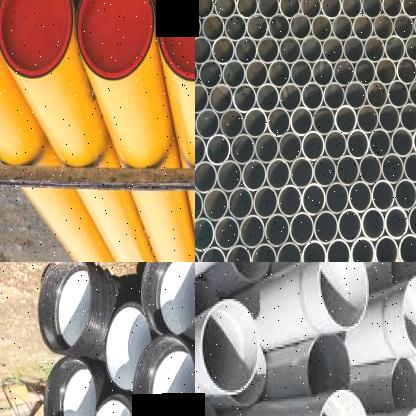pipe: (76, 0, 154, 81), (198, 296, 260, 396), (0, 0, 73, 80), (37, 262, 92, 354), (133, 336, 195, 416), (104, 304, 152, 391), (315, 262, 373, 333), (141, 262, 195, 336), (302, 331, 354, 397), (156, 0, 195, 83), (43, 357, 96, 416), (386, 354, 416, 412), (313, 385, 369, 416), (399, 272, 416, 357), (195, 275, 220, 327), (228, 262, 274, 285), (88, 395, 136, 416), (264, 214, 290, 249), (203, 188, 229, 222), (214, 216, 240, 250), (239, 215, 265, 249), (252, 186, 278, 219), (301, 183, 326, 217), (289, 212, 314, 246), (229, 187, 254, 221), (337, 209, 362, 243), (277, 185, 302, 218), (217, 160, 242, 193), (314, 211, 338, 245), (361, 208, 385, 242), (384, 206, 408, 240), (195, 108, 220, 140), (231, 134, 256, 166), (325, 182, 349, 215), (348, 181, 372, 214), (219, 108, 244, 139), (254, 132, 278, 164), (313, 156, 337, 188), (266, 158, 290, 190), (242, 160, 266, 192), (290, 157, 314, 189), (206, 134, 230, 166), (336, 155, 360, 187), (371, 180, 395, 212), (278, 132, 302, 163), (195, 161, 217, 194), (198, 60, 223, 89), (387, 262, 416, 287), (368, 128, 392, 158), (256, 83, 280, 113), (390, 128, 414, 158), (267, 108, 291, 138), (244, 108, 268, 138), (324, 130, 347, 161), (358, 154, 381, 185), (346, 129, 369, 160), (394, 179, 416, 211), (222, 60, 246, 89), (232, 84, 256, 113), (209, 84, 233, 113), (312, 106, 335, 136), (381, 154, 404, 184), (335, 105, 358, 135), (356, 104, 379, 134), (212, 36, 235, 66), (302, 131, 324, 162), (301, 82, 324, 111), (279, 83, 302, 112), (323, 82, 346, 111), (290, 107, 313, 136), (245, 60, 268, 89), (278, 36, 301, 65), (257, 36, 280, 65), (235, 36, 258, 65), (195, 218, 214, 253), (366, 80, 388, 110), (246, 14, 269, 42), (201, 14, 224, 42), (224, 14, 247, 42), (333, 58, 355, 87), (312, 58, 334, 87), (378, 104, 400, 133), (387, 80, 409, 109), (268, 60, 290, 89), (374, 236, 398, 262), (344, 82, 366, 110), (311, 14, 333, 42), (290, 60, 312, 88), (300, 36, 322, 64), (354, 58, 376, 86), (322, 36, 344, 64), (375, 58, 397, 86), (268, 14, 290, 42), (350, 237, 374, 262), (352, 14, 374, 41), (290, 14, 312, 41), (332, 14, 353, 42), (343, 36, 364, 64), (326, 238, 350, 262), (372, 14, 393, 41), (396, 57, 416, 85), (301, 240, 326, 262), (384, 36, 405, 62), (393, 14, 414, 40), (364, 36, 384, 63), (397, 234, 416, 262), (276, 242, 301, 262), (251, 243, 277, 262), (399, 103, 416, 132), (195, 36, 212, 64), (225, 245, 251, 262), (195, 83, 209, 114), (214, 0, 236, 19), (236, 0, 258, 19), (199, 247, 226, 262), (403, 152, 416, 183), (279, 0, 300, 19), (341, 0, 362, 19), (361, 0, 382, 19), (257, 0, 279, 18), (321, 0, 341, 19), (381, 0, 402, 18), (300, 0, 321, 18), (195, 0, 214, 19), (195, 135, 206, 167), (405, 34, 416, 62), (407, 205, 416, 238), (195, 189, 203, 223), (401, 0, 416, 18), (408, 80, 416, 108), (195, 14, 202, 41)
